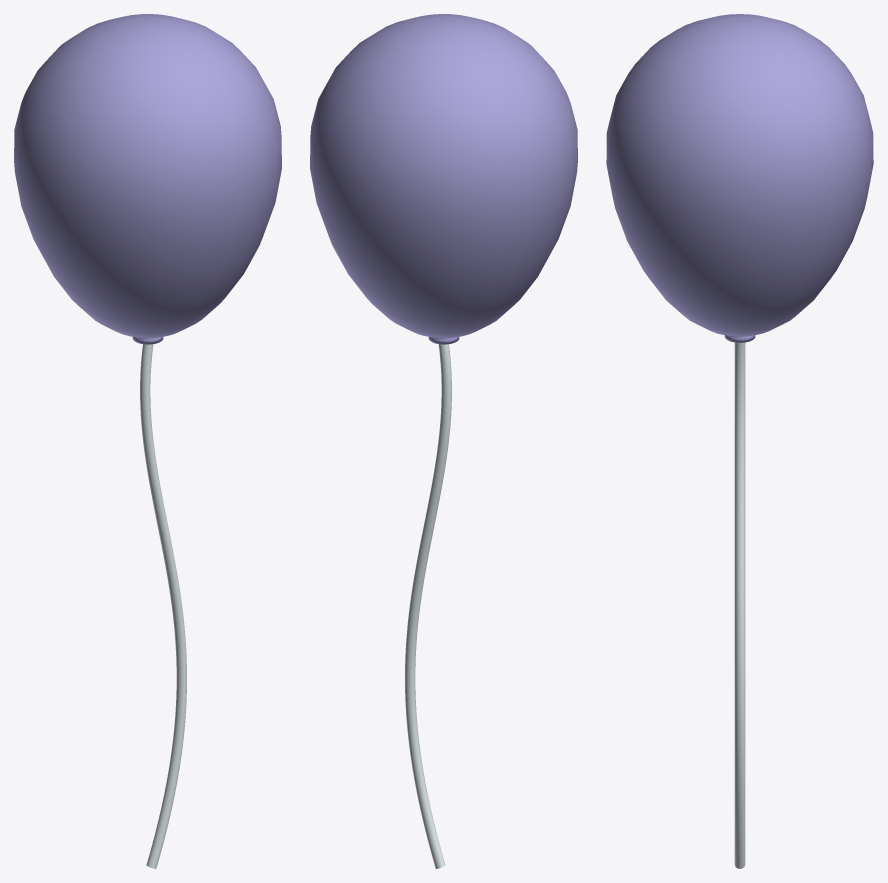
File: Balon Ungu.fbx
The picture shows the model from 3 angles, left to right: view 1: azimuth 30°, elevation 25°; view 2: azimuth 150°, elevation 25°; view 3: azimuth 270°, elevation 25°; orthographic projection.
Parts seen in each view (by area): view 1: Sphere.005, NurbsPath.004; view 2: Sphere.005, NurbsPath.004; view 3: Sphere.005, NurbsPath.004.
Boxes of the visible parts, x1=… form: Sphere.005: x1=14, y1=14, x2=281, y2=344; NurbsPath.004: x1=140, y1=344, x2=186, y2=868; Sphere.005: x1=310, y1=14, x2=577, y2=344; NurbsPath.004: x1=405, y1=344, x2=451, y2=868; Sphere.005: x1=606, y1=14, x2=873, y2=342; NurbsPath.004: x1=734, y1=342, x2=745, y2=868.
Size of the model in its own units: 62.72 by 217 by 62.72.
